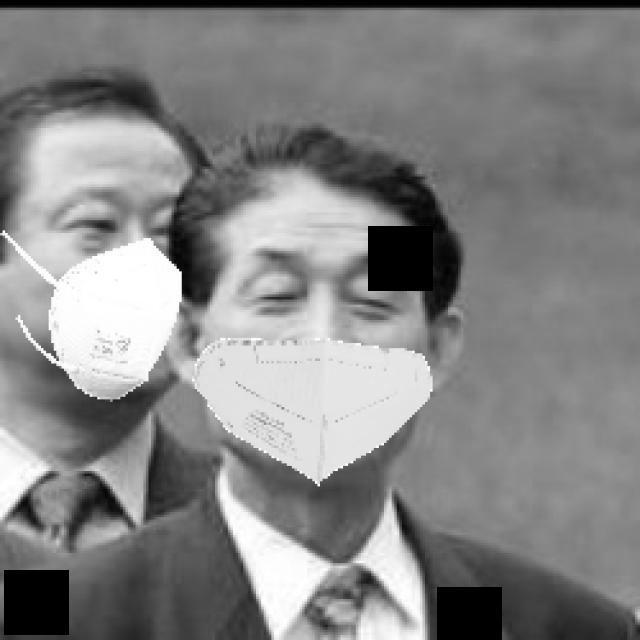kn95: (194, 213, 433, 489), (2, 168, 176, 400)
